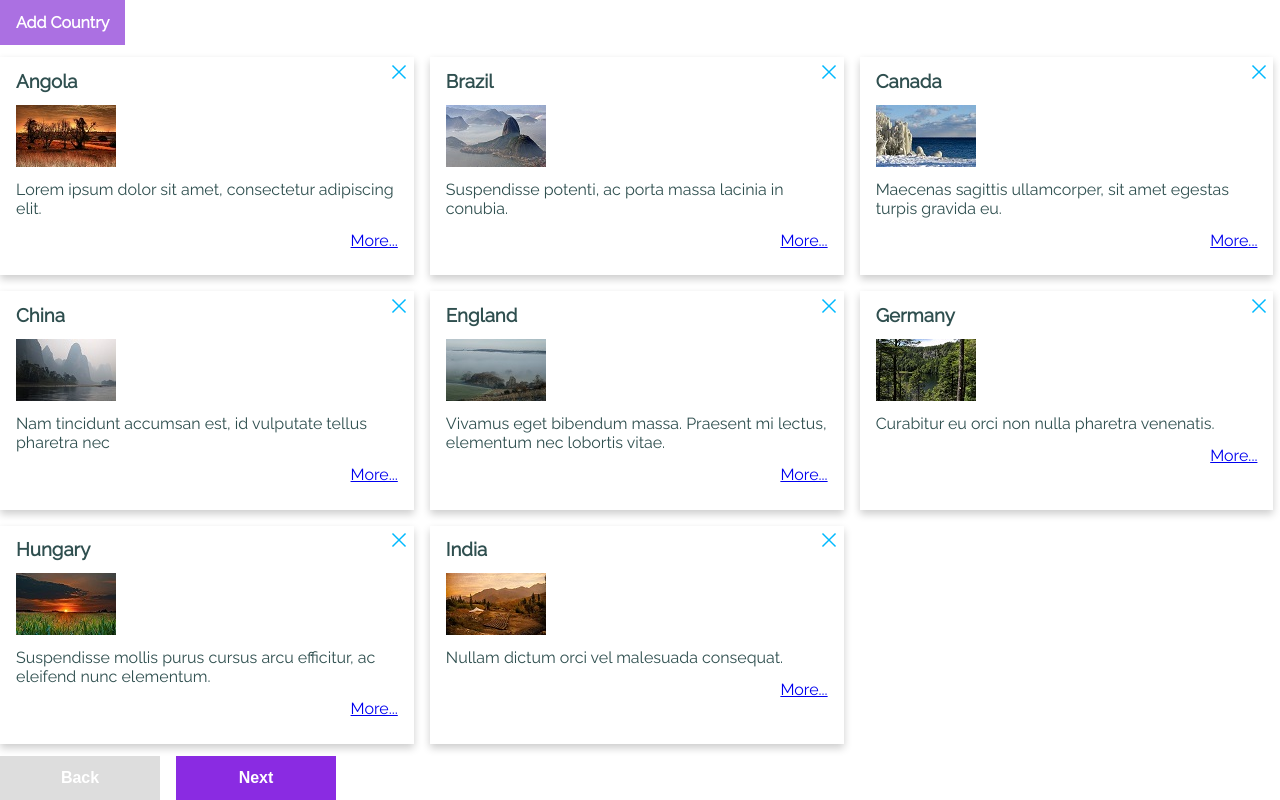
Scenario: Delete country modal › clicking on the cancel button hides the confirm delete modal
expect the heading "Angola" is shown: met, box left=16, top=70, right=78, bottom=92
Click the button named "Delete country" in the row of "Angola" at (399, 72), box left=391, top=64, right=407, bottom=80
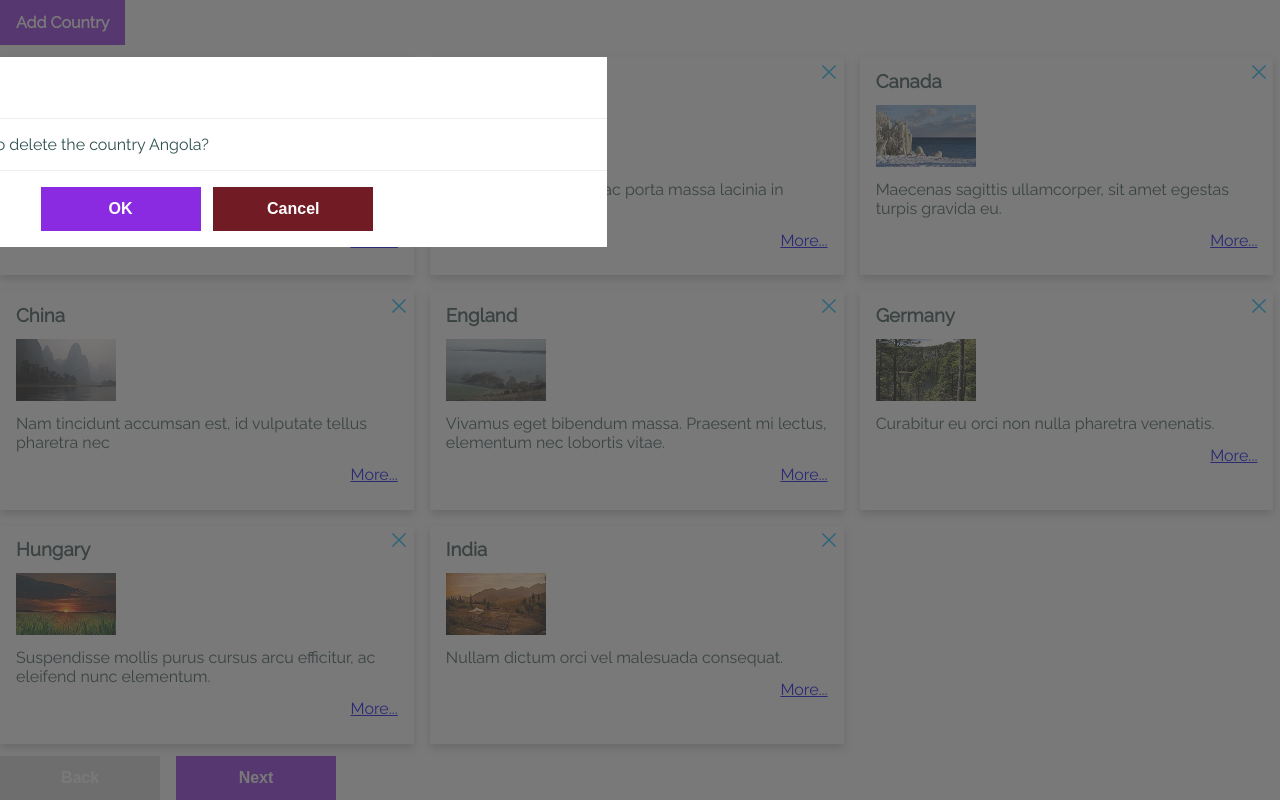
Click the button "Cancel" at (293, 209), box left=213, top=187, right=373, bottom=231
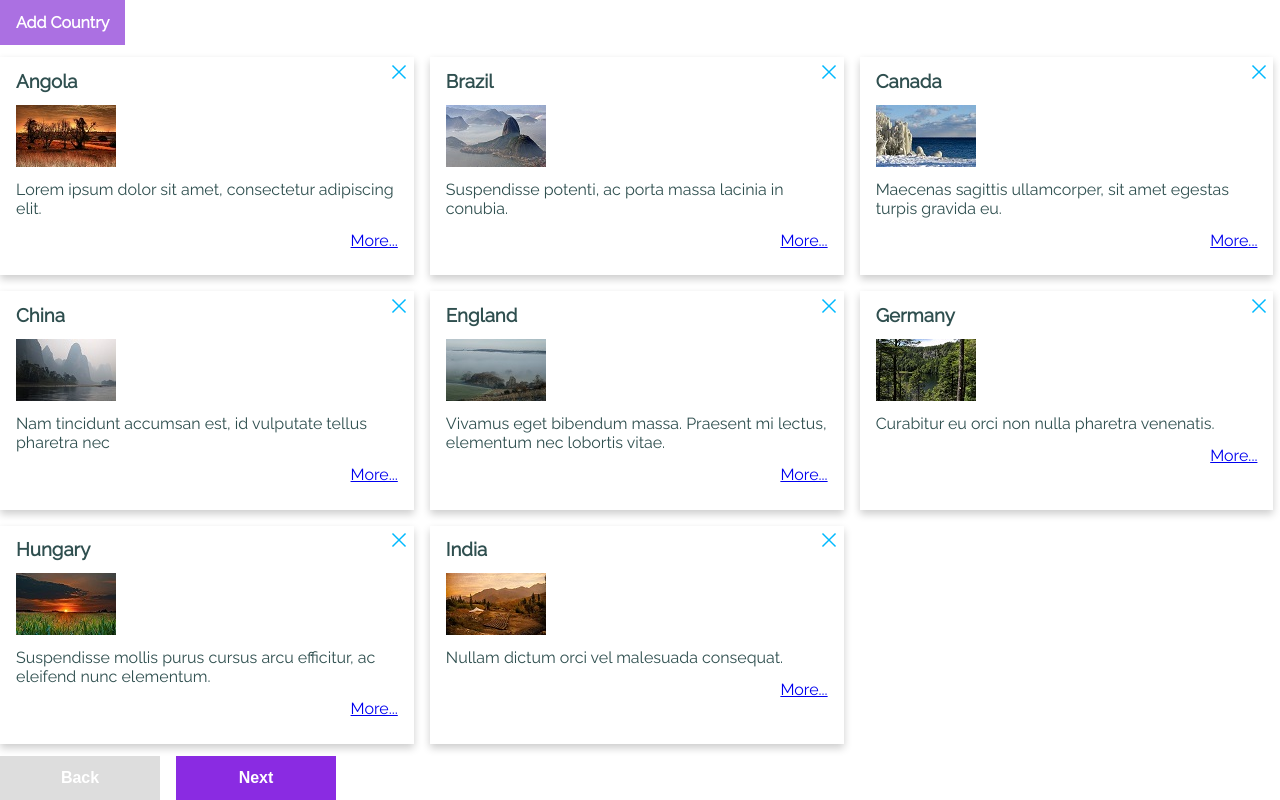
expect the text "Are you sure you want to delete the country" is gone: met
